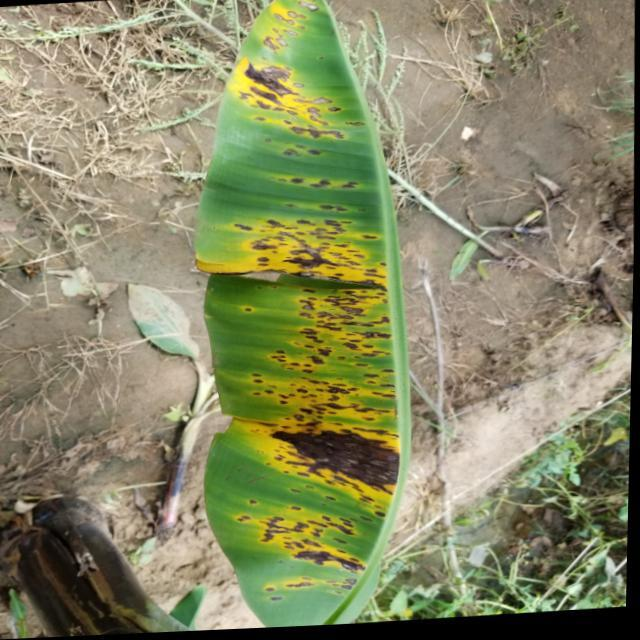Early_rust: (155, 0, 466, 640)
